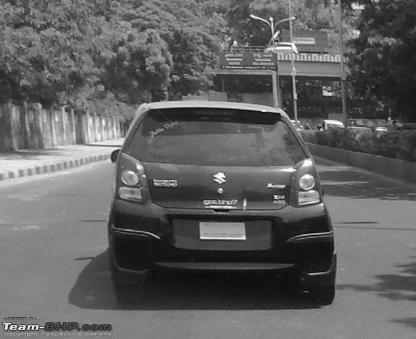license plate: (196, 218, 248, 243)
